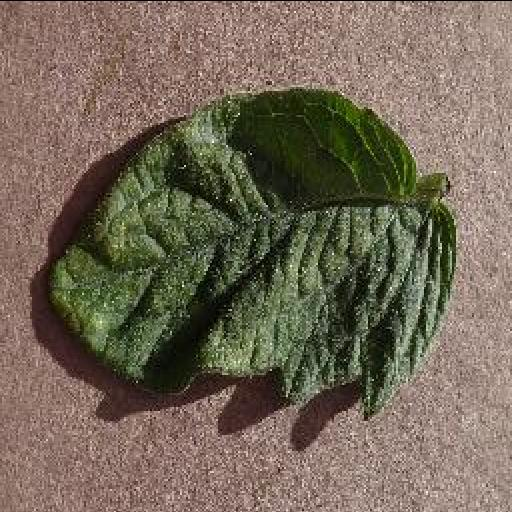disease_tomato: (42, 88, 458, 416)
